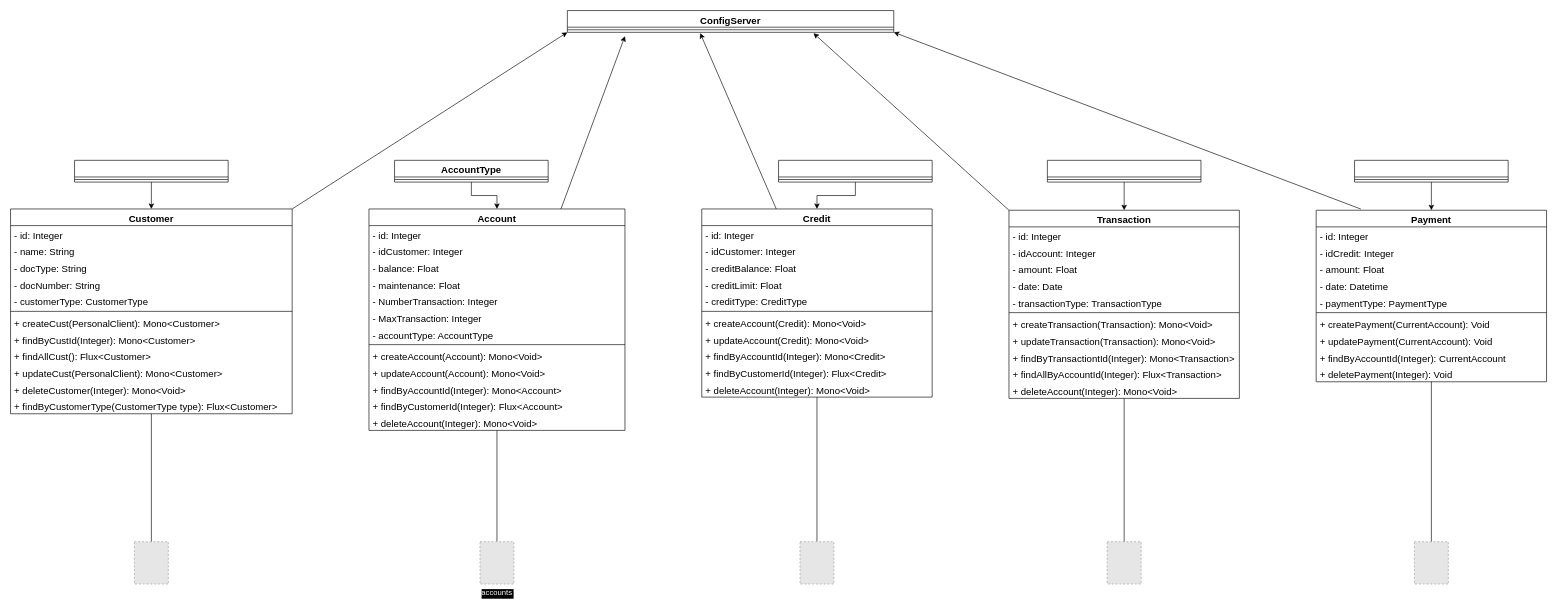
Image size: 1557x609. Some labels were removed from this diagram. Grey dashed boxes stand in for pictures. Each missing label, with the centre of its shape:
CreditType: the point at 855,171
CustomerType: the point at 151,171
PaymentType: the point at 1431,171
TransactionType: the point at 1124,171
